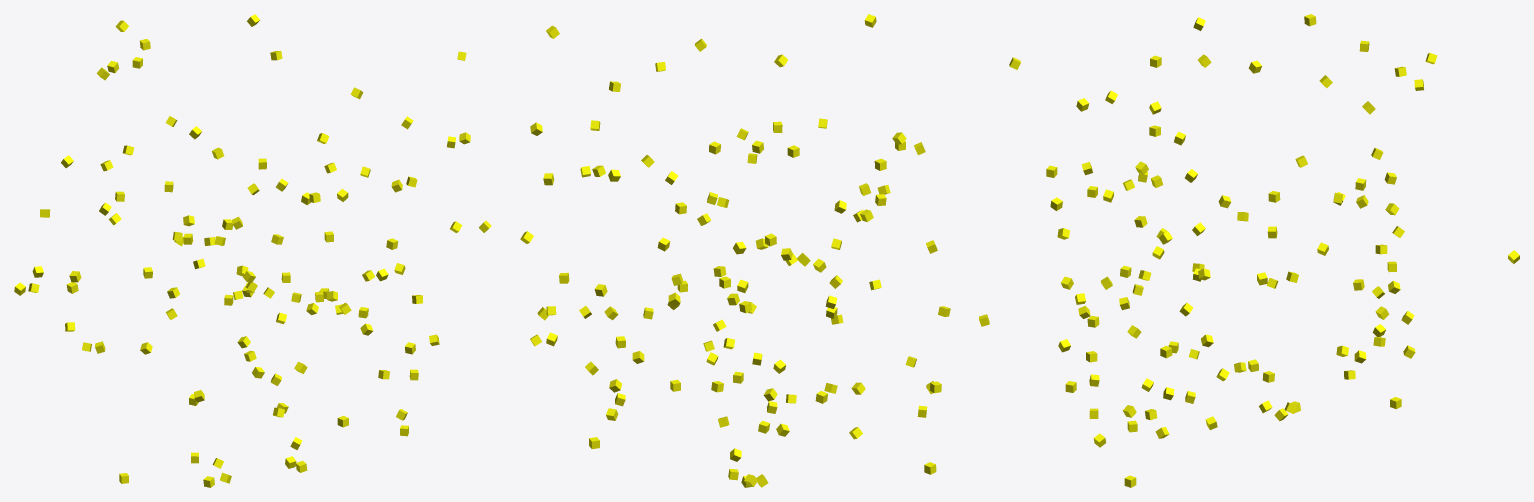
The model's file is cubes_scene_yellow.dae.
3 renders of one model, left to right at view 1: azimuth 30°, elevation 25°; view 2: azimuth 150°, elevation 25°; view 3: azimuth 270°, elevation 25°, orthographic. The views are drawn at different scales.
Size of the model in its own units: 119 by 130 by 99.45.
